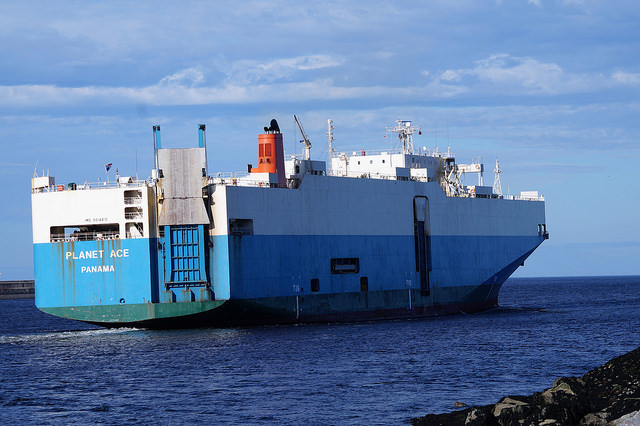PCC: (25, 117, 547, 328)
